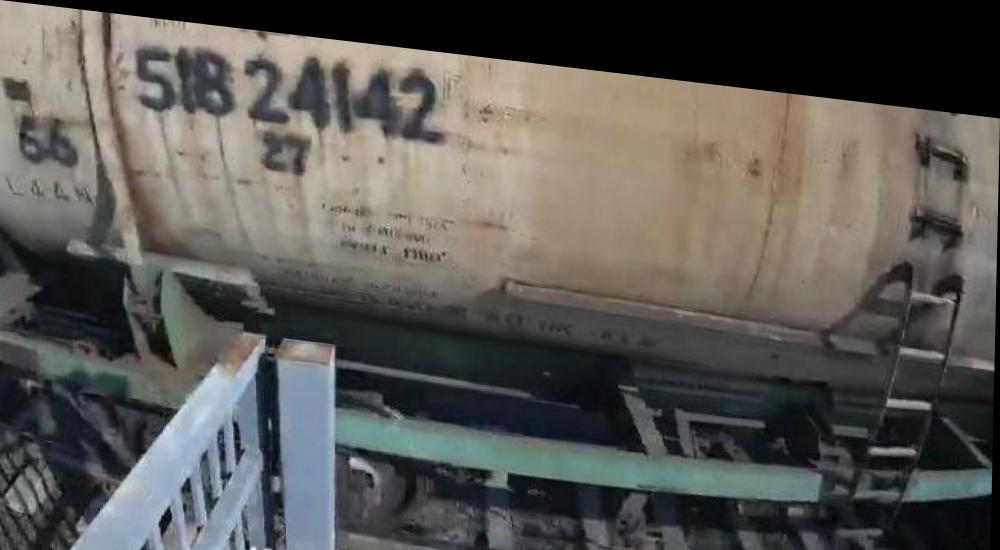Wagon-number: (133, 32, 448, 141)
